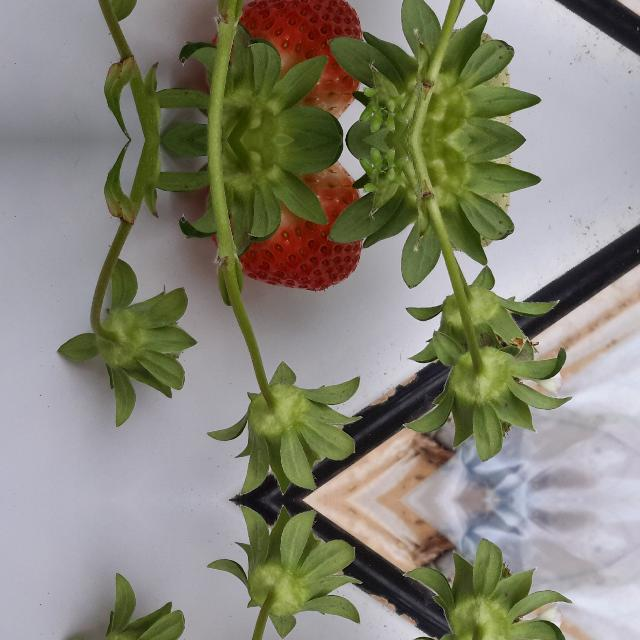Health_100: (204, 159, 362, 291), (203, 0, 362, 121)
